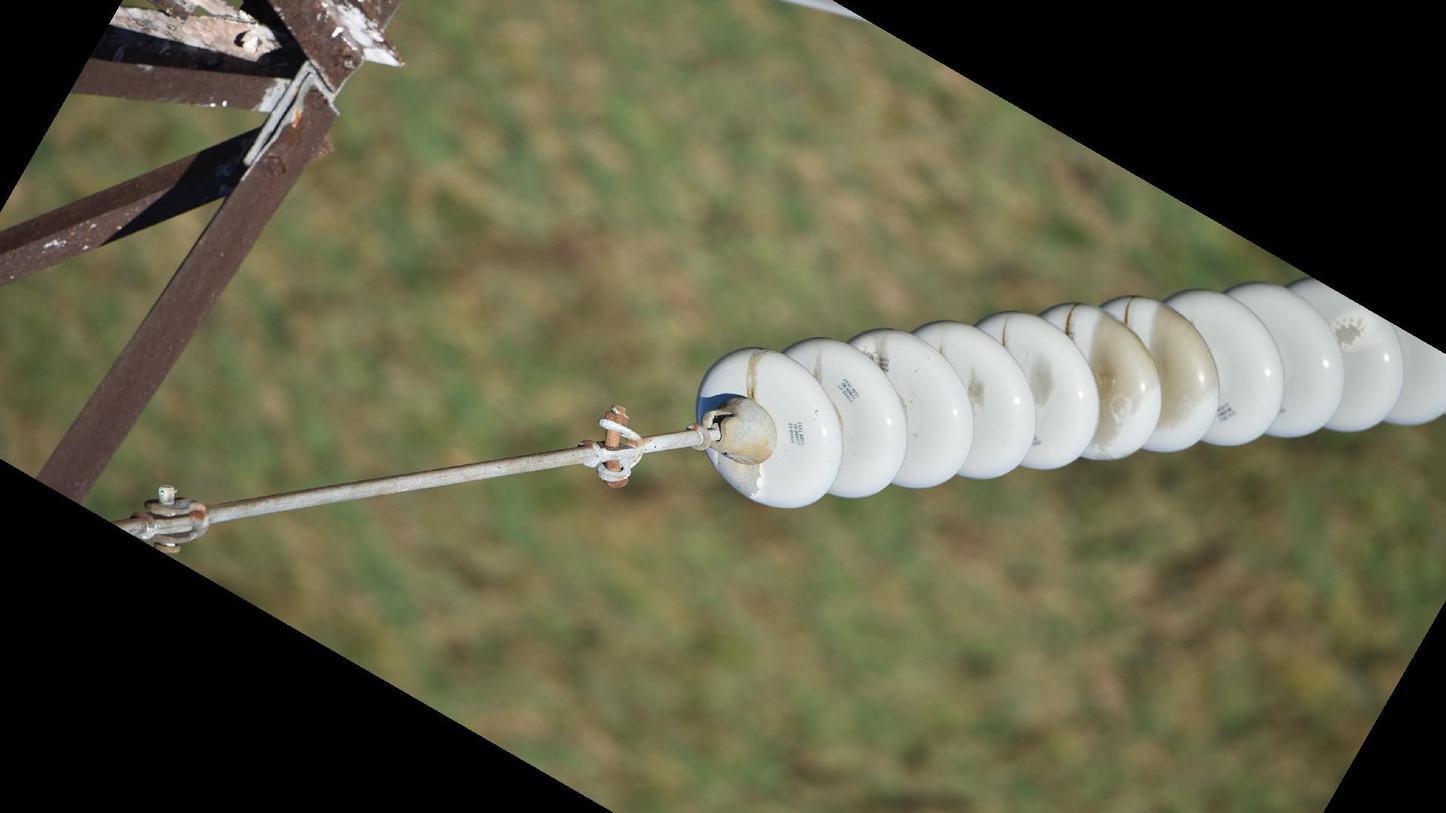insulator: (693, 273, 1446, 517)
insulator_flashover: (712, 448, 764, 501), (1329, 308, 1380, 355)
